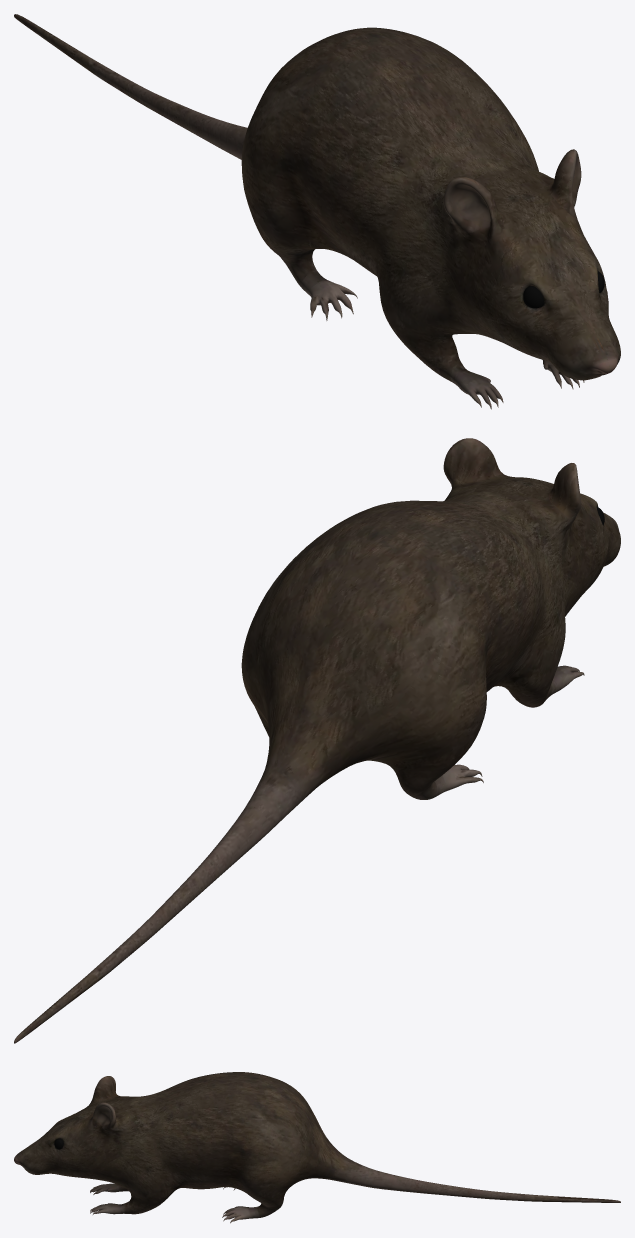
File: street_rat.glb
3 renders of one model, top to bottom at view 1: azimuth 30°, elevation 25°; view 2: azimuth 150°, elevation 25°; view 3: azimuth 270°, elevation 25°, orthographic. The views are drawn at different scales.
Visible parts, largest first — view 1: street_rat; view 2: street_rat; view 3: street_rat.
Part boxes in pixels (box(x1,y1,x2,y2)): street_rat: box(14, 14, 620, 409); street_rat: box(14, 438, 620, 1043); street_rat: box(14, 1072, 620, 1223).
Size of the model in its own units: 0.032 by 0.0339 by 0.1483.
Materials: 1 (1 with a texture image).
